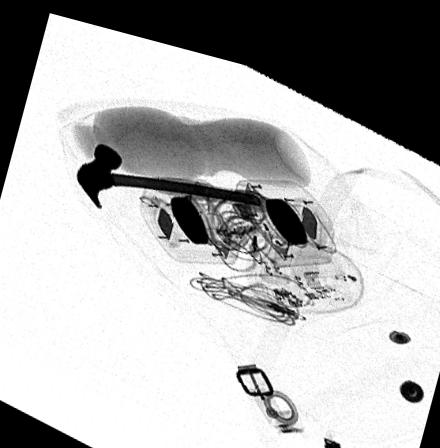Hammer: (74, 137, 266, 203)
